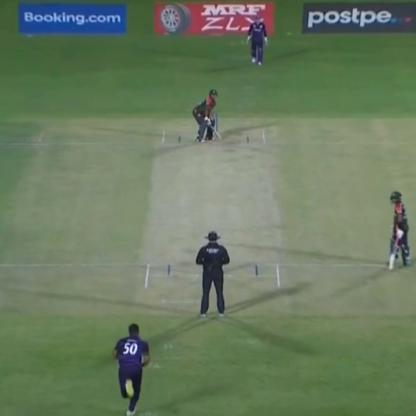bat: (199, 116, 230, 143), (389, 228, 402, 275)
pitch: (137, 128, 287, 301)
